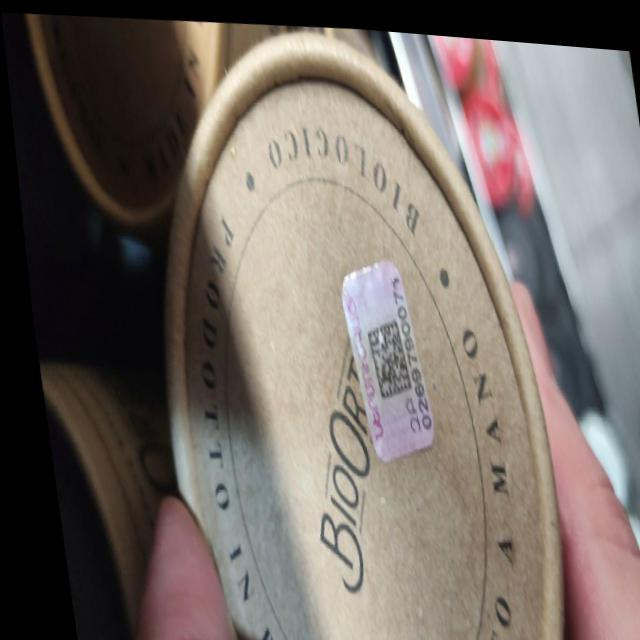datamatrix: (357, 310, 407, 398)
